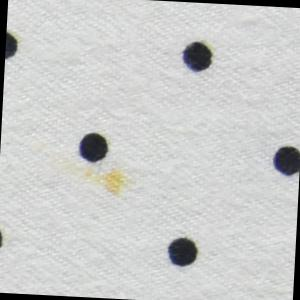Stain: (76, 163, 136, 203)
